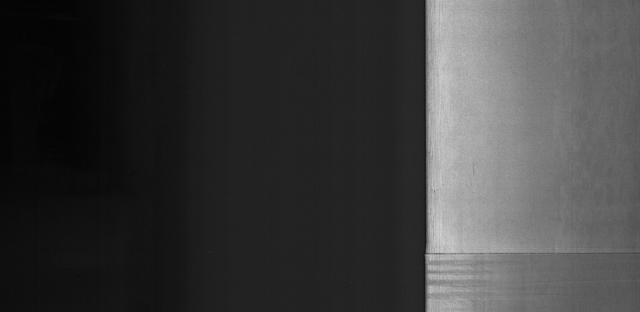welding_line: (433, 247, 636, 262)
